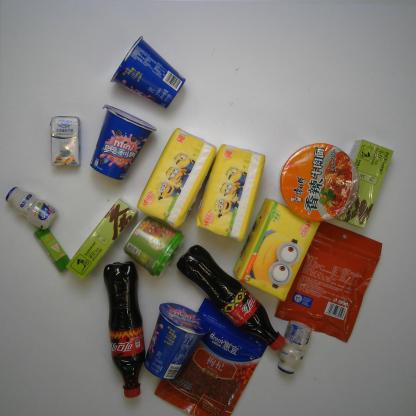Dessert: (141, 300, 213, 386), (108, 34, 188, 110), (88, 103, 158, 182)
Dried Fruit: (152, 295, 268, 416), (273, 219, 383, 346)
Drink: (174, 242, 286, 353), (102, 256, 148, 402)
Instant Drink: (64, 196, 140, 282), (330, 137, 395, 230), (121, 214, 188, 280)
Instant Noodles: (280, 142, 358, 222)
Milk: (4, 183, 62, 233), (273, 315, 320, 376), (47, 113, 82, 169)
Stationery: (32, 224, 72, 275)
Tissue: (231, 196, 325, 304), (134, 126, 218, 231), (194, 141, 267, 244)
